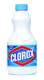grozi_13: (6, 4, 36, 74)
